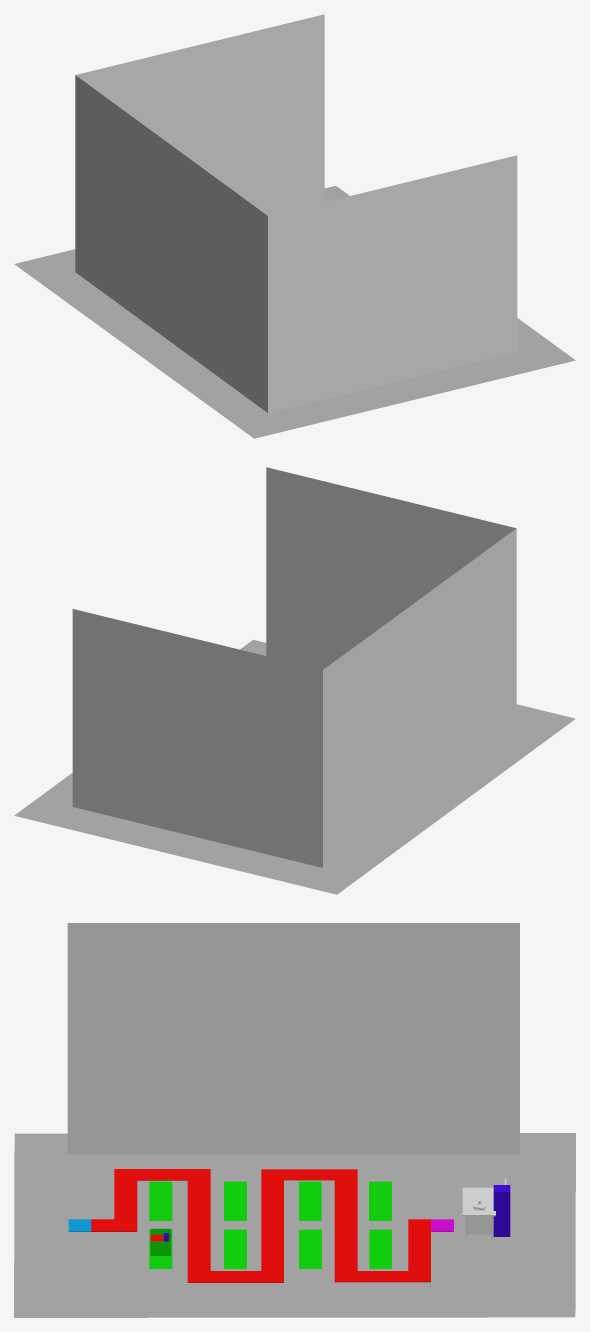
Rendered from texte 2.fbx.
The picture shows the model from 3 angles, top to bottom: view 1: azimuth 30°, elevation 25°; view 2: azimuth 150°, elevation 25°; view 3: azimuth 270°, elevation 25°; orthographic projection. The views are drawn at different scales.
Visible parts, largest first — view 1: Paredes, Chao Geral; view 2: Paredes, Chao Geral; view 3: Paredes, Chao Geral, Caminho, Area dos defensores PLACEHOLDER, Mesa del BOSS, Ref Personagem.001, Mesa dos defensores TRUE MT FODA.
Part boxes in pixels (x1,y1,x2,y2): Paredes: (75, 14, 517, 413); Chao Geral: (14, 185, 575, 438); Paredes: (72, 467, 516, 867); Chao Geral: (14, 639, 575, 894); Paredes: (67, 923, 519, 1154); Chao Geral: (14, 1133, 575, 1317); Caminho: (91, 1169, 430, 1282); Area dos defensores PLACEHOLDER: (149, 1181, 391, 1268); Mesa del BOSS: (462, 1187, 495, 1238); Ref Personagem.001: (493, 1185, 510, 1236); Mesa dos defensores TRUE MT FODA: (150, 1228, 171, 1255).
Size of the model in its own units: 15792 by 9282 by 20284.
